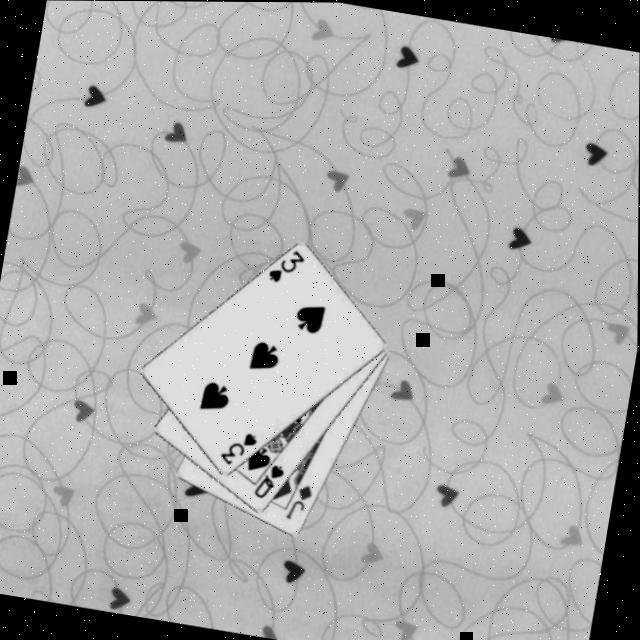3S: (263, 244, 308, 290), (216, 426, 260, 472)
JD: (282, 481, 316, 526)
QS: (250, 459, 288, 505)
